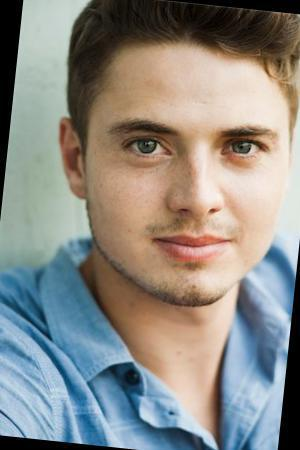Sober: (87, 41, 280, 292)
